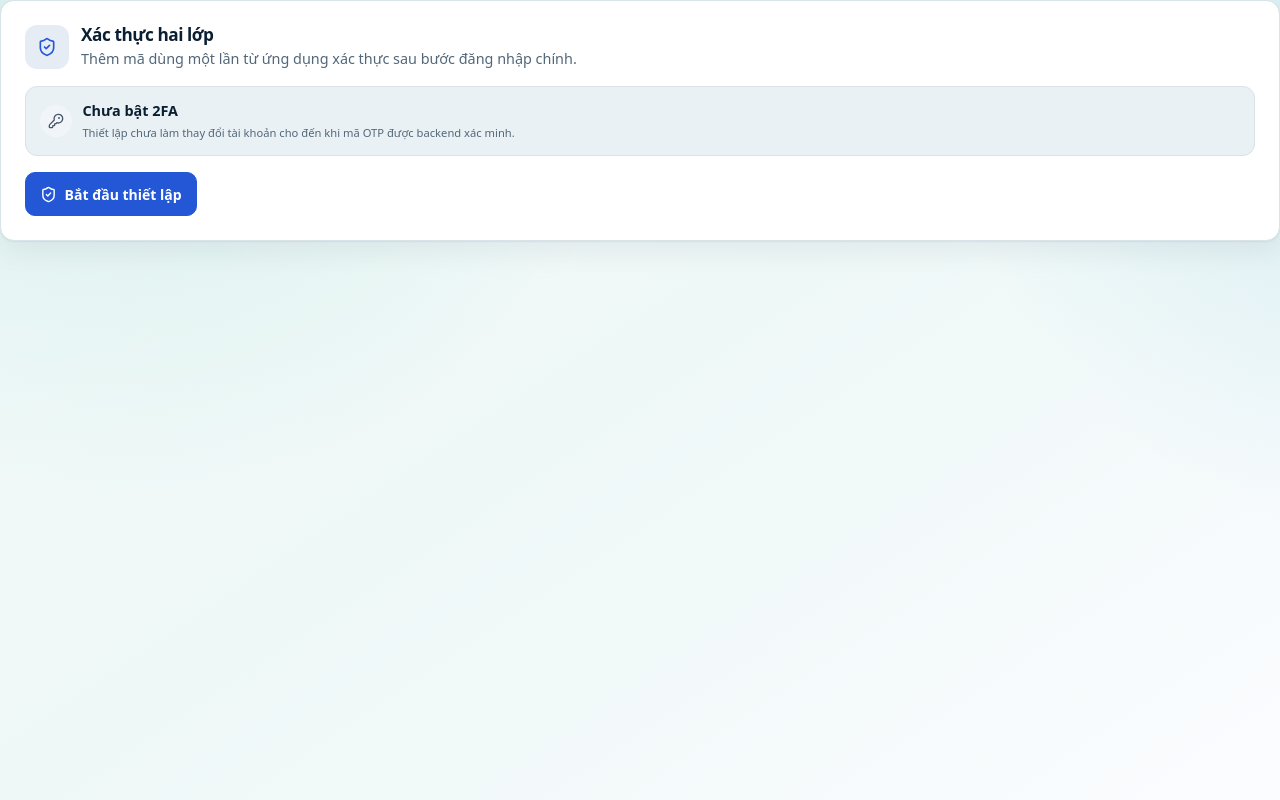
it: TwoFactorPanel › does not show enabled until the backend verifies the OTP
The image size is (1280, 800).
Click the button "Bắt đầu thiết lập".
click(111, 194)  # box [25,172,197,216]
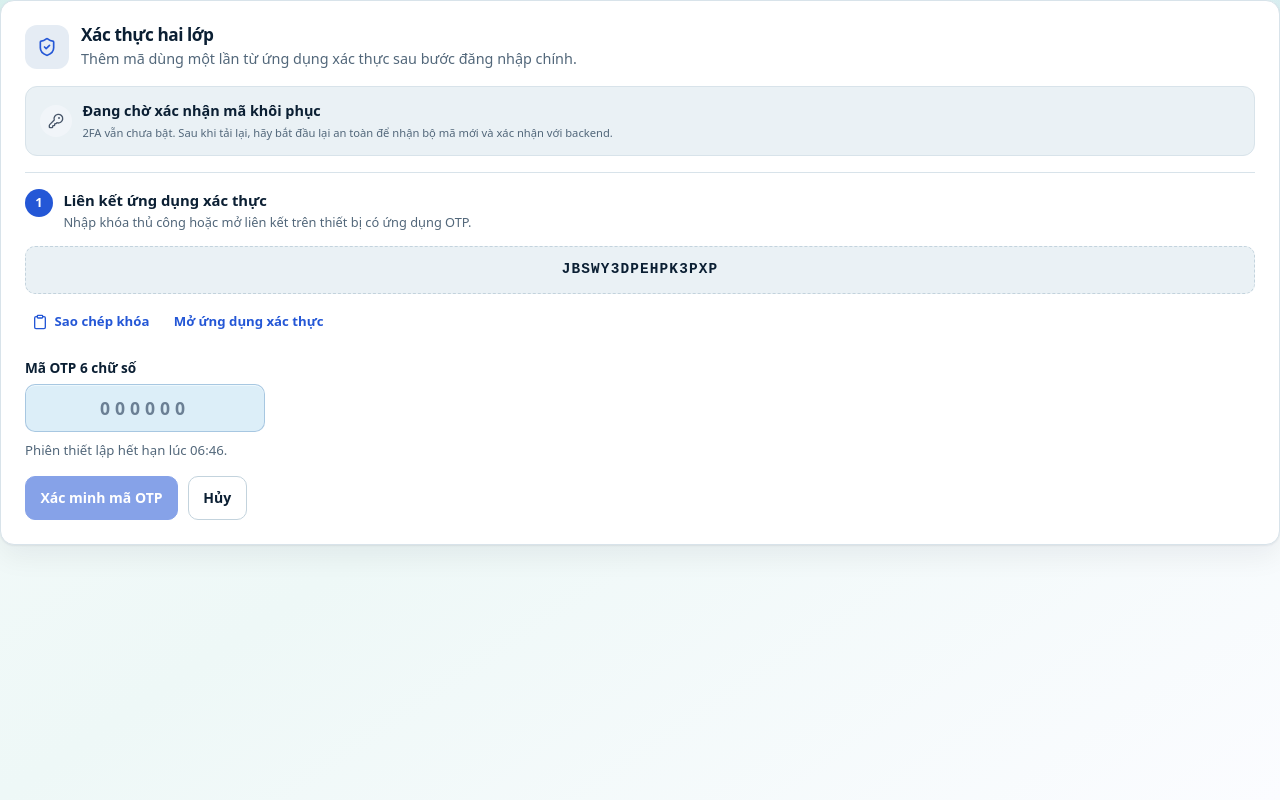
Expected: the text "Đang bảo vệ bằng OTP" is not shown
Expected: the text "JBSWY3DPEHPK3PXP" is shown, [25,246,1255,294]
Expected: the text "Đang chờ xác nhận mã khôi phục" is shown, [82,101,321,120]
Type "123456" into the field labelled "Mã OTP 6 chữ số".
click(145, 408); type("123456")  # box [25,384,265,432]
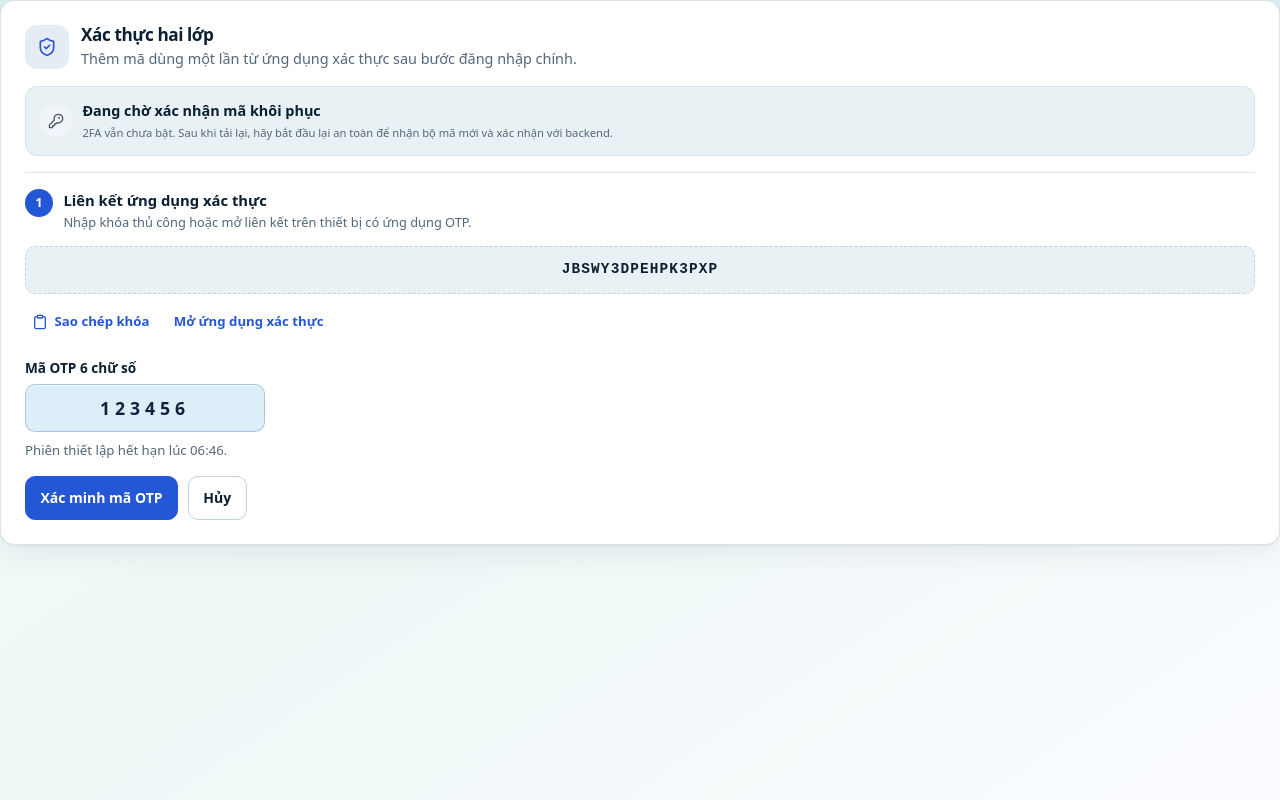
Click the button "Xác minh mã OTP".
click(101, 498)  # box [25,476,178,520]
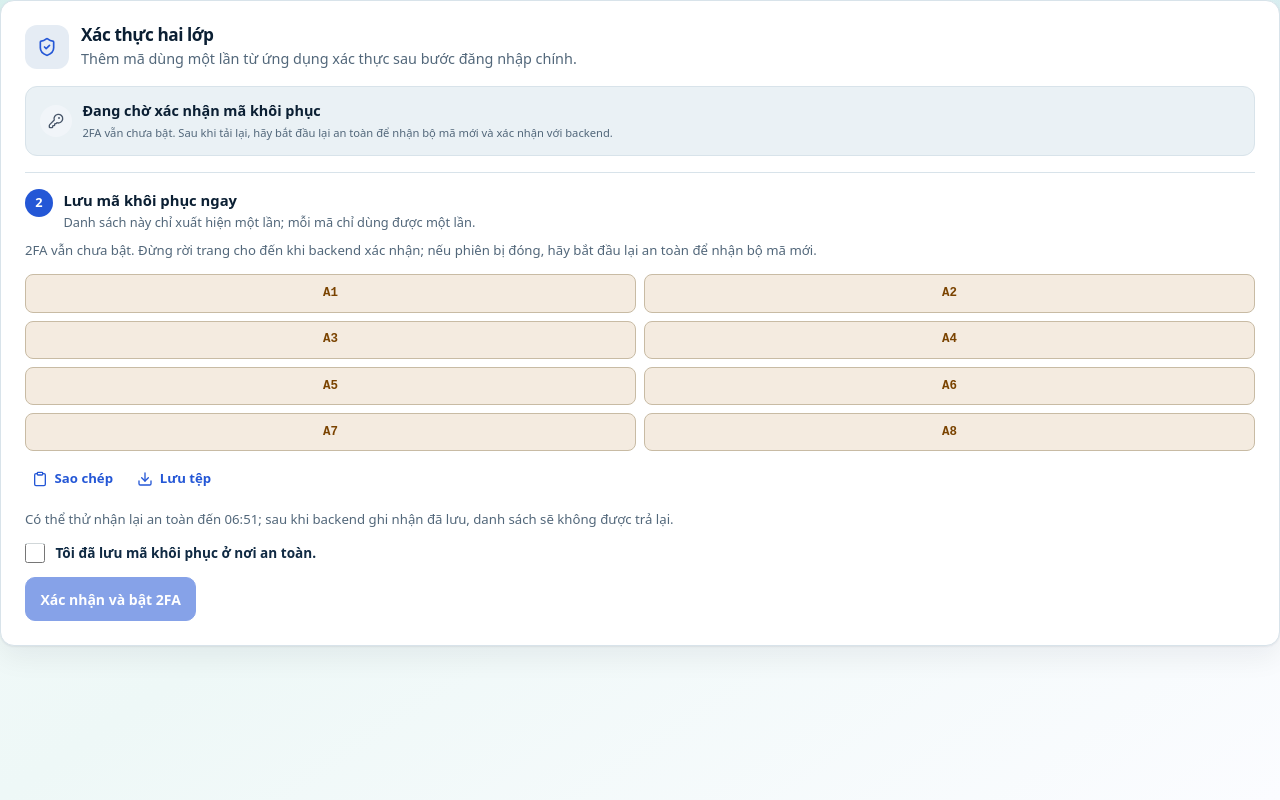
Expected: the text "Đang bảo vệ bằng OTP" is not shown
Expected: the text "Đang chờ xác nhận mã khôi phục" is shown, [82,101,321,120]
Expected: the text "Lưu mã khôi phục ngay" is shown, [63,190,237,210]
Click the checkbox labelled "Tôi đã lưu mã khôi phục ở nơi an toàn.".
click(35, 553)  # box [25,543,45,563]
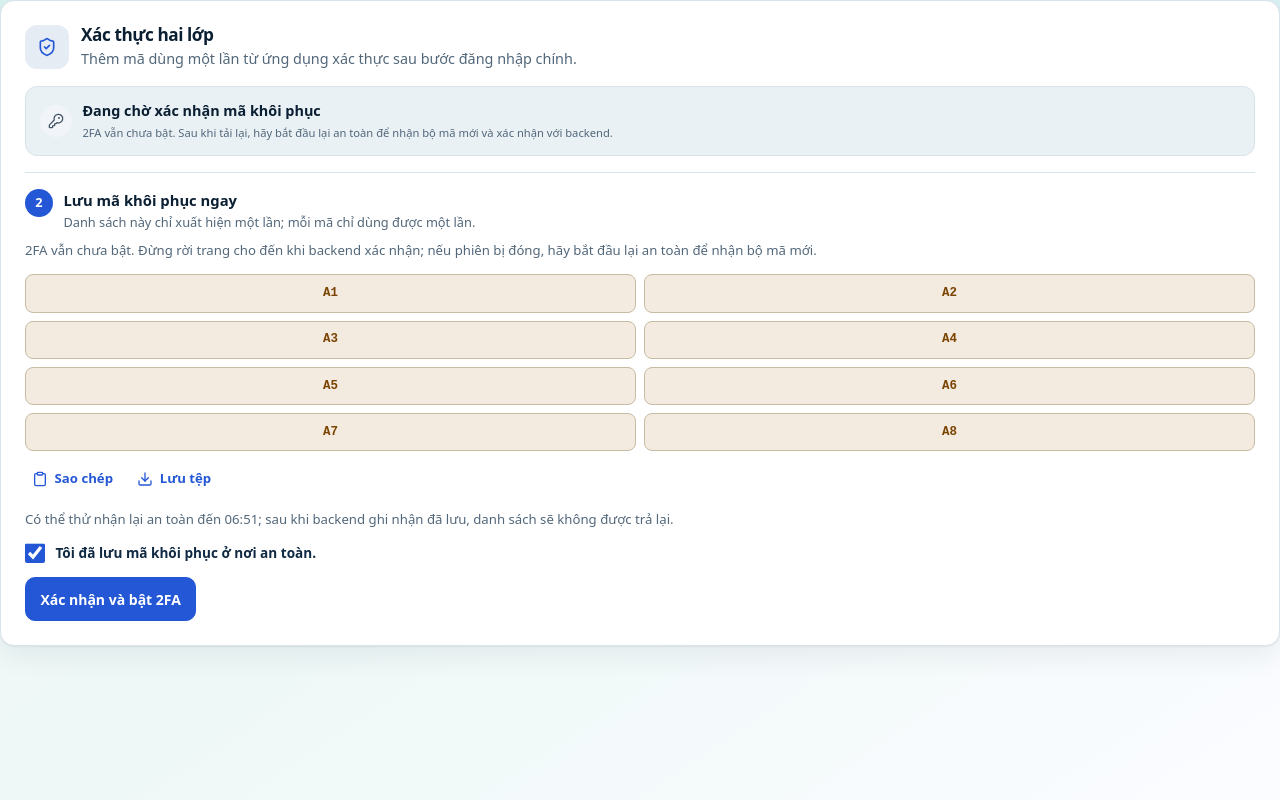
Click the button "Xác nhận và bật 2FA".
click(111, 599)  # box [25,577,196,621]
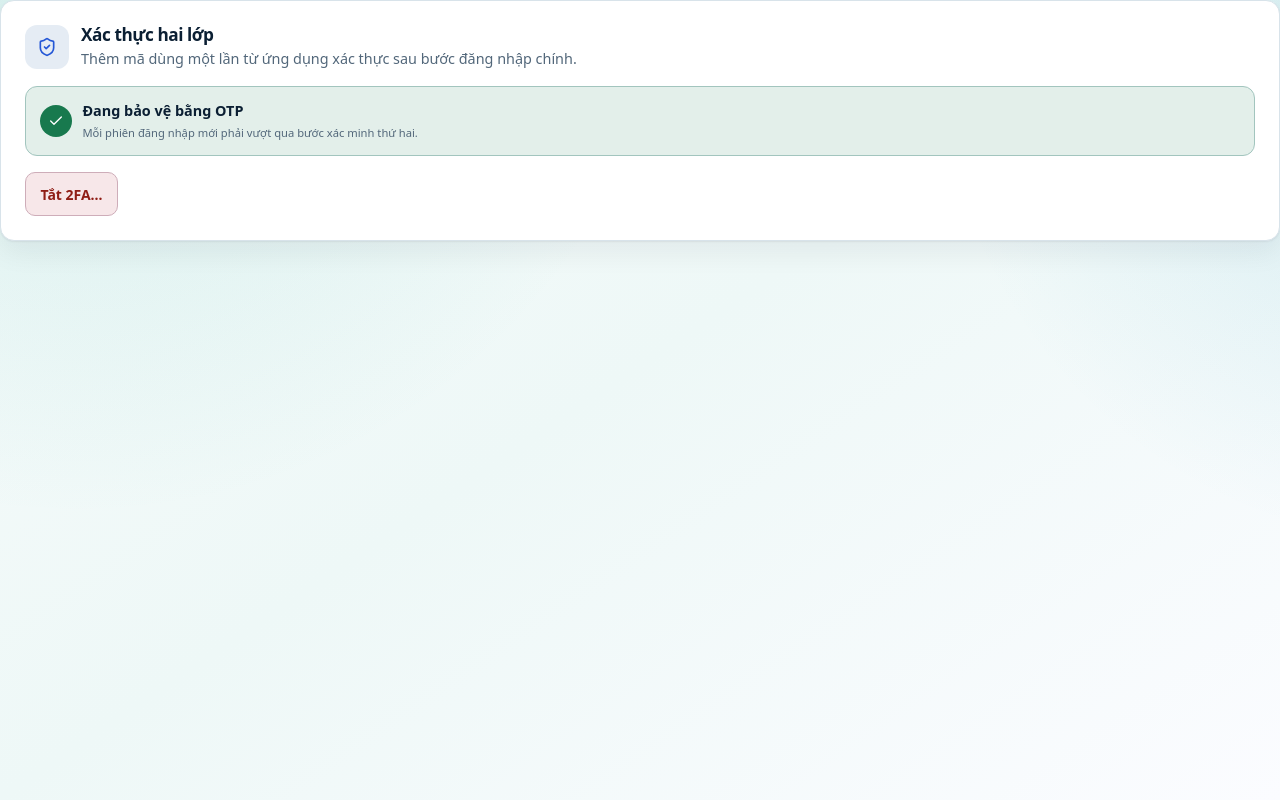
Expected: the text "Đang bảo vệ bằng OTP" is shown, [82,101,243,120]
